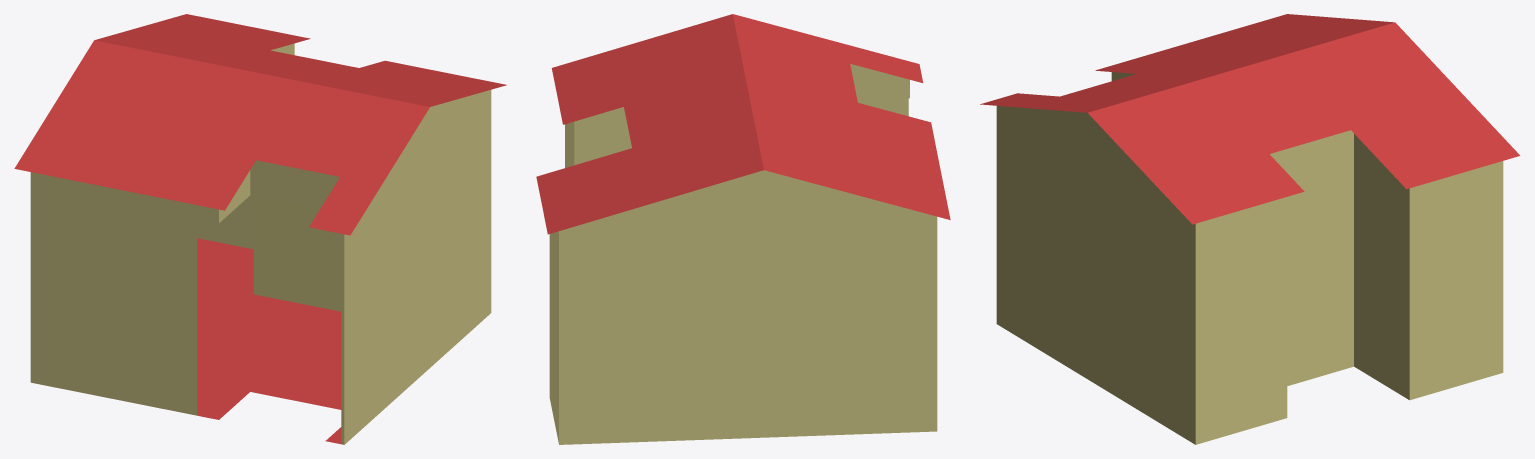
3 renders of one model, left to right at view 1: azimuth 30°, elevation 25°; view 2: azimuth 150°, elevation 25°; view 3: azimuth 270°, elevation 25°, orthographic.
Size of the model in its own units: 20.92 by 21.75 by 12.23.
